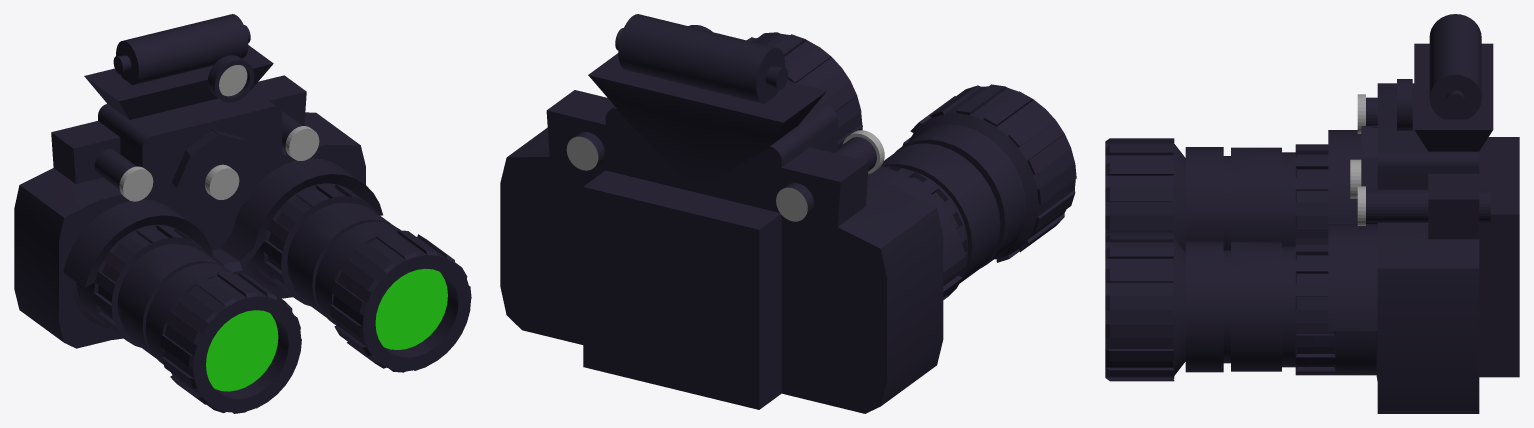
The model's file is T3_NightVision.fbx.
3 views of the same model, side by side, from view 1: azimuth 30°, elevation 25°; view 2: azimuth 150°, elevation 25°; view 3: azimuth 270°, elevation 25° (orthographic). The views are drawn at different scales.
Parts seen in each view (by area): view 1: NightVision; view 2: NightVision; view 3: NightVision.
Boxes of the visible parts, x1,y1,x2,y2 form: NightVision: (14,14,471,413); NightVision: (500,14,1076,413); NightVision: (1105,14,1519,413).
Size of the model in its own units: 0.7262 by 0.7468 by 0.5951.
